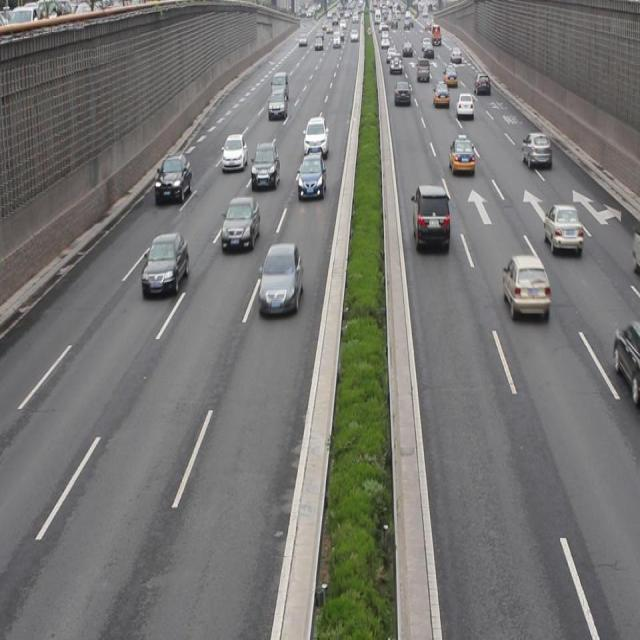car: (142, 232, 189, 298), (260, 242, 301, 317), (502, 256, 548, 321), (412, 183, 449, 252), (610, 316, 640, 400), (220, 195, 260, 252), (542, 200, 580, 253), (155, 156, 190, 202), (296, 153, 325, 200), (522, 131, 552, 174), (250, 142, 278, 186), (448, 134, 473, 175), (221, 133, 246, 170), (303, 118, 327, 156)
